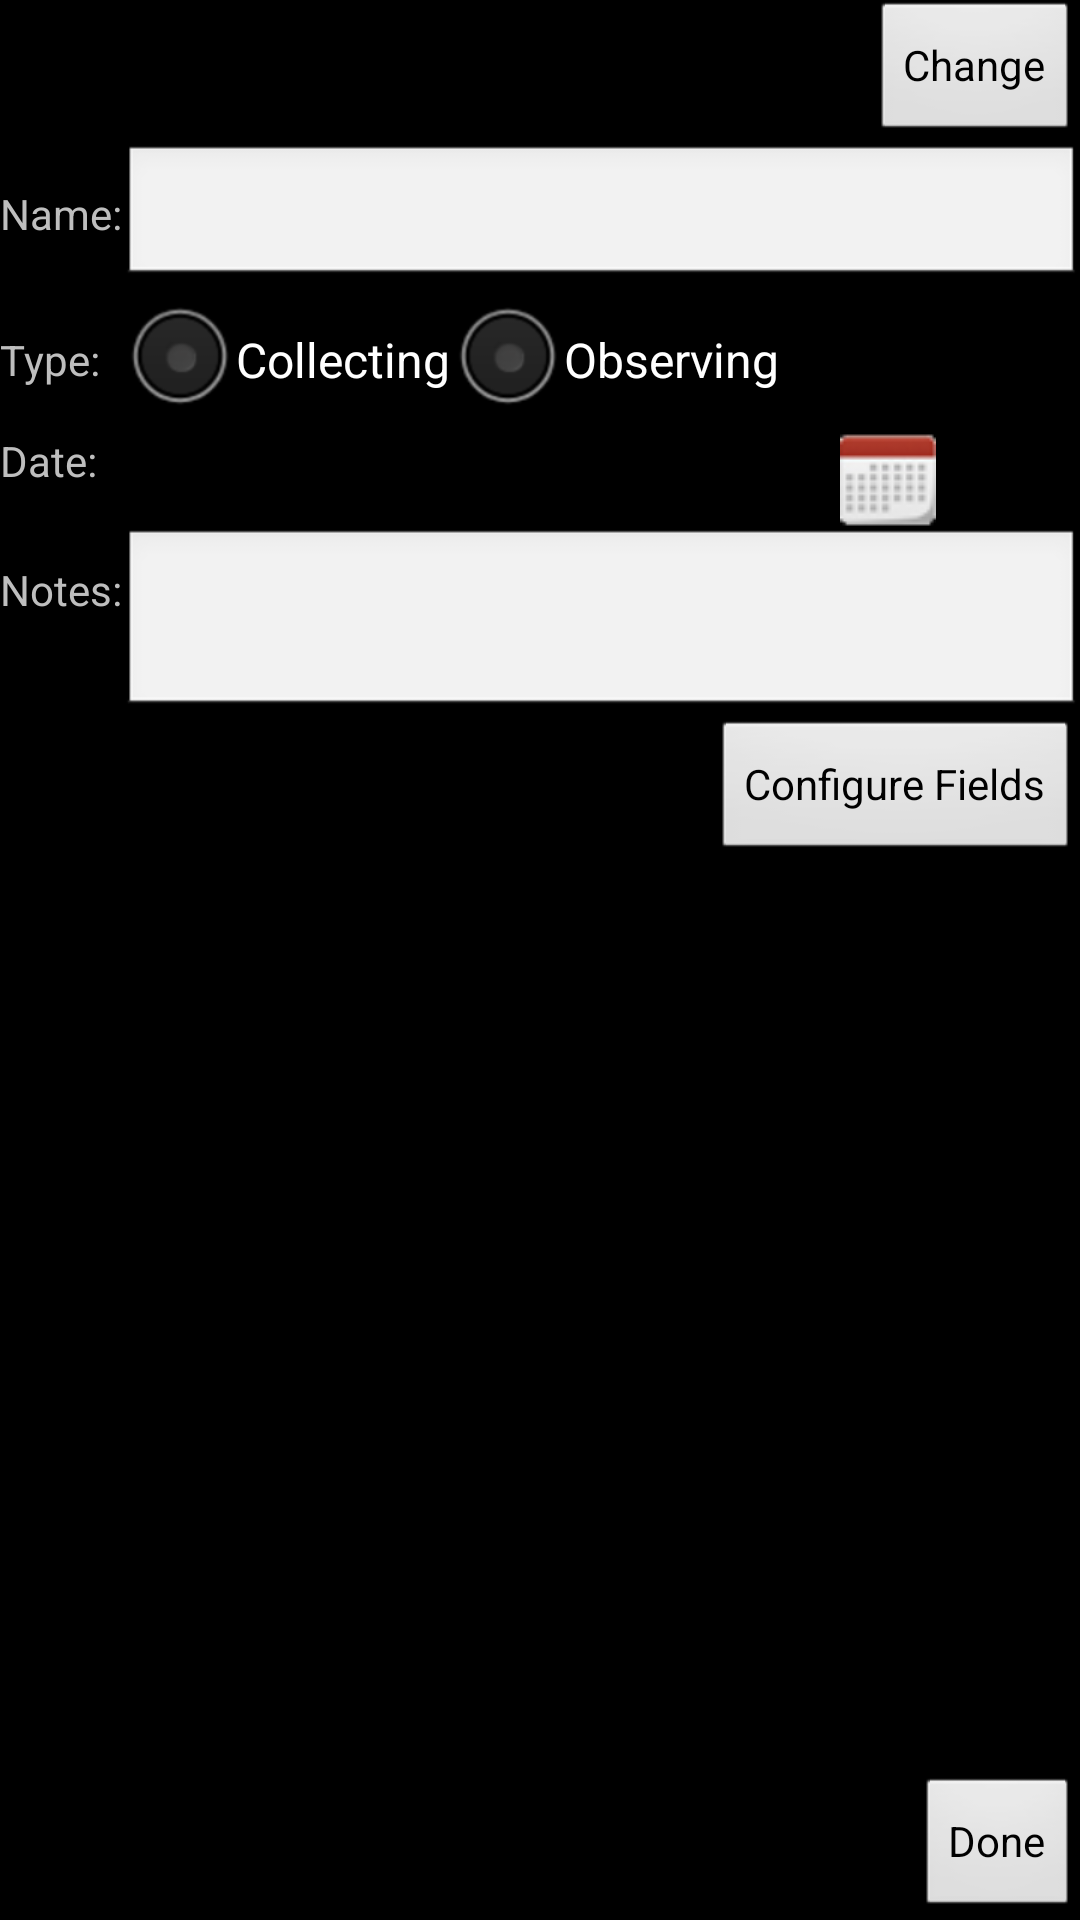

Icon bounding boxes for this 1080×1920 phone screenshot, format (x1, y1, x2, y2):
calendar: (840, 434, 936, 526)
